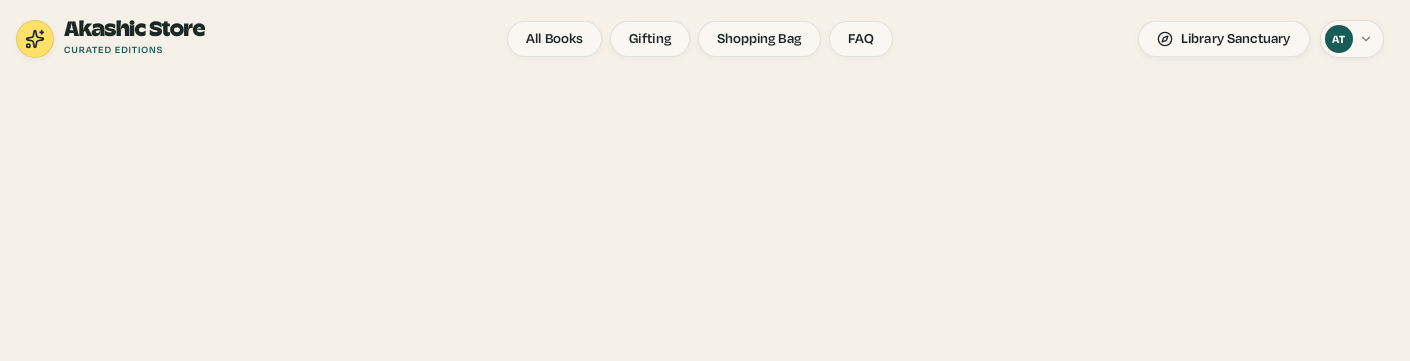
Test: StoreHeader Component › closes dropdown on Escape key
The image size is (1410, 361).
Click the button with aria-label "Account menu for Athena Curates" at coordinates (1352, 39), box top-left (1320, 20), bottom-right (1384, 58)
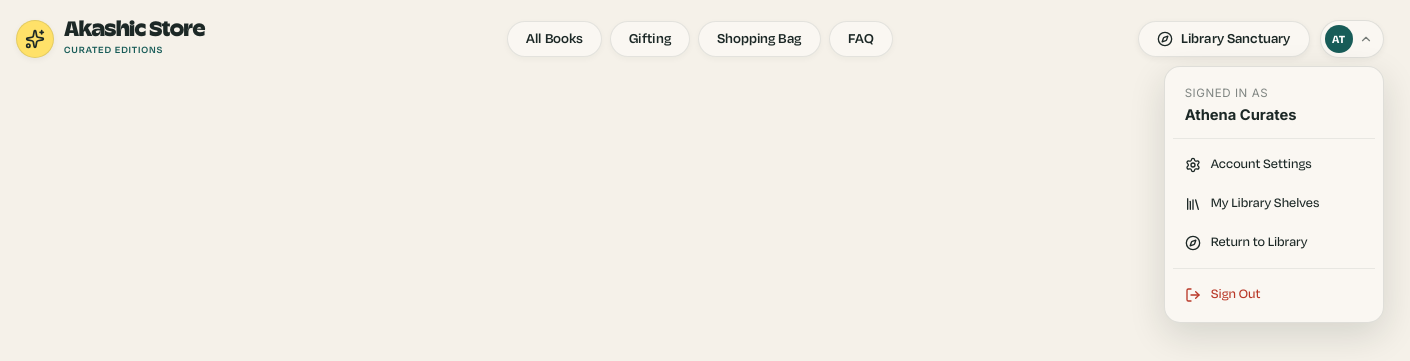
Check: the menu is shown, box top-left (1164, 66), bottom-right (1384, 324)
Press Escape
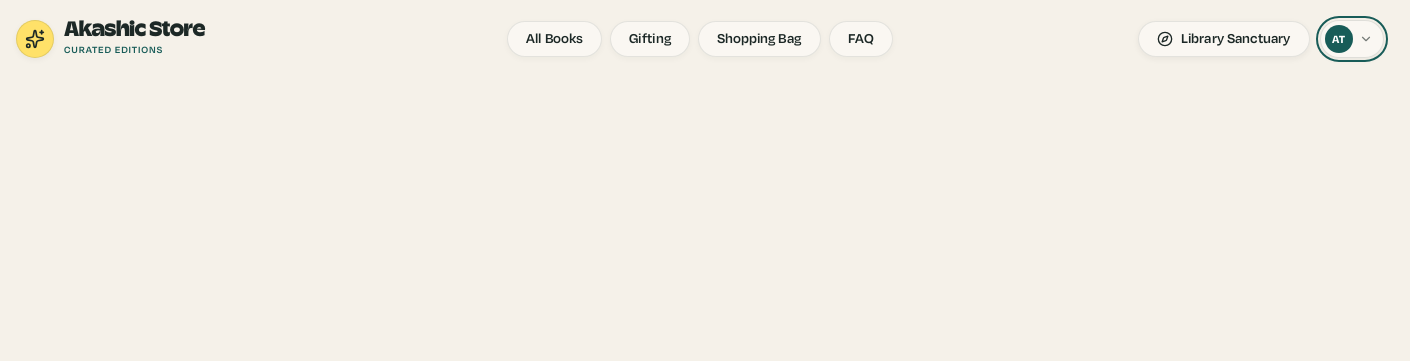
Check: the menu is gone
